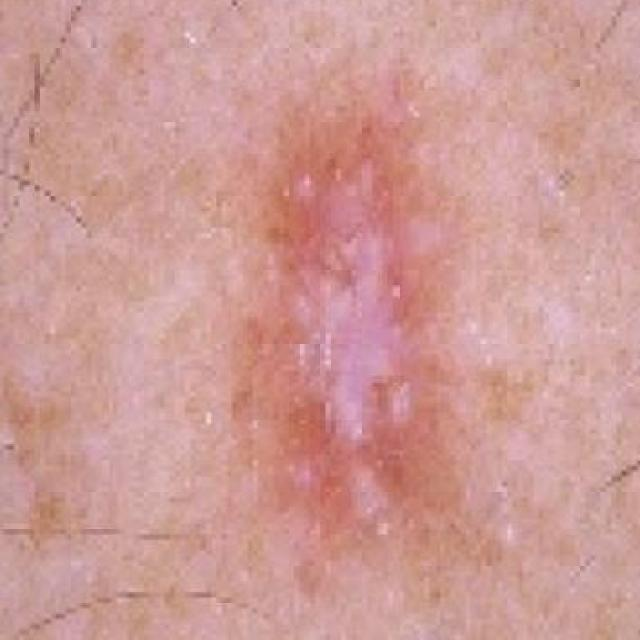DF: (178, 0, 560, 640)
